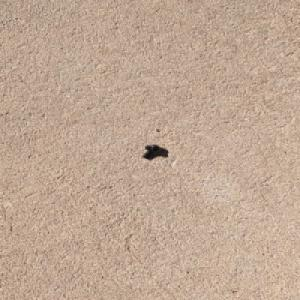BoltWasher: (140, 144, 161, 158)
